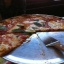pizza: (1, 12, 63, 34)
